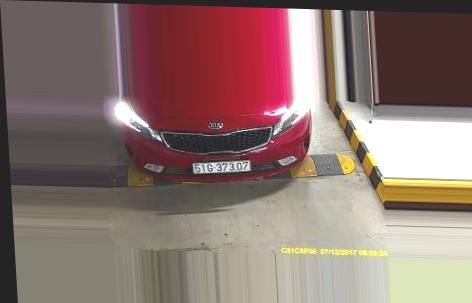License_Plate: (190, 158, 251, 176)
